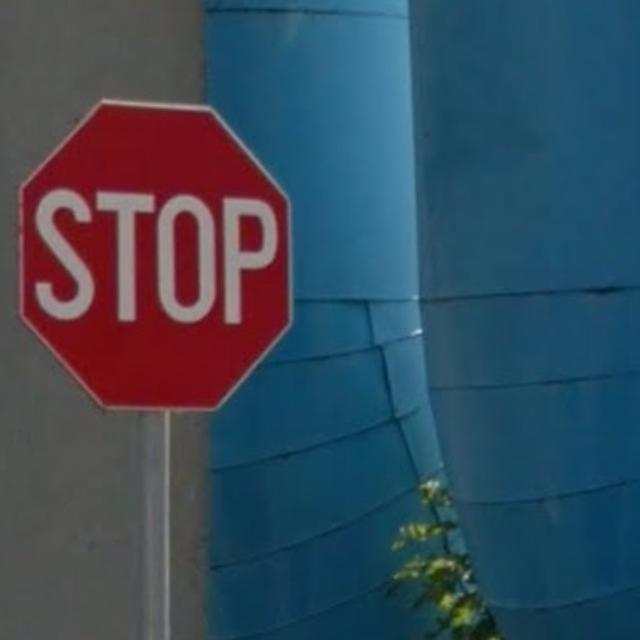prio_stop: (18, 100, 292, 411)
